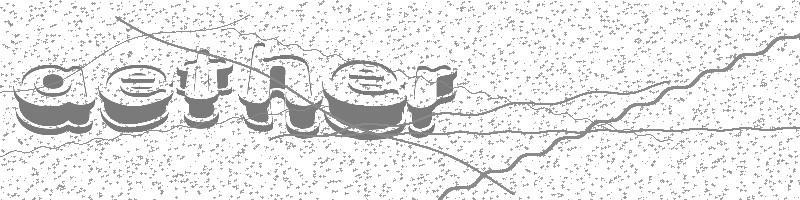a: (12, 63, 97, 136)
e: (320, 57, 409, 143), (97, 63, 172, 134)
h: (237, 41, 325, 140)
r: (406, 63, 459, 140)
t: (176, 48, 234, 130)
